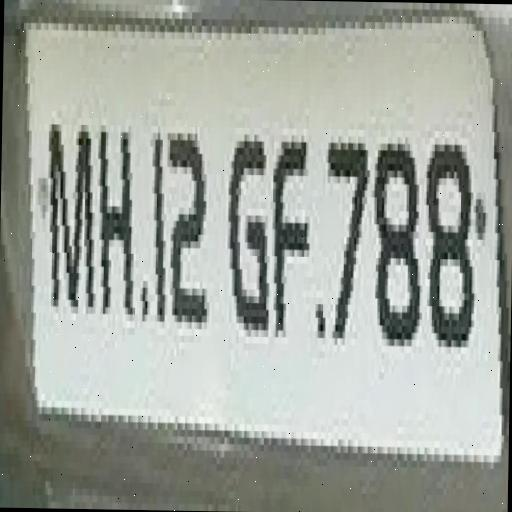number plate: (9, 0, 512, 435)
